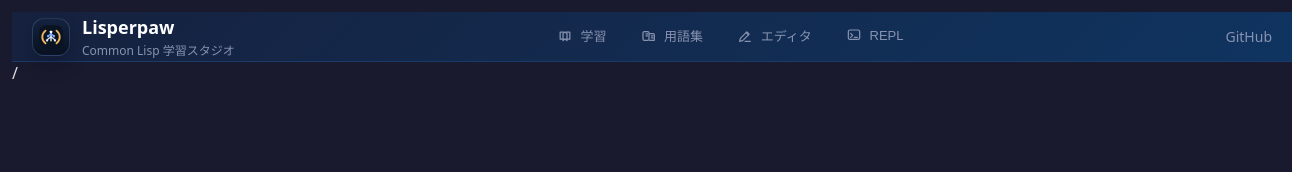
Scenario: Header › エディタボタンをクリックするとエディタへ移動する
The image size is (1292, 172).
What coordinates should you click on to do the following:
click the button "エディタ"
I would click on:
 (774, 37)
Its box is top-left (722, 19), bottom-right (827, 54).
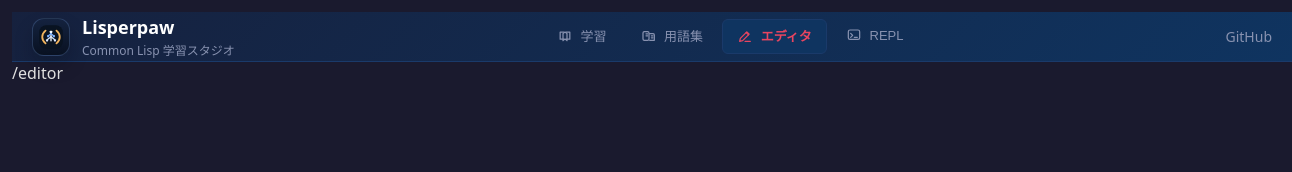
Result: the text with test id "location-path" reads "/editor" at top-left (12, 62), bottom-right (63, 84)
